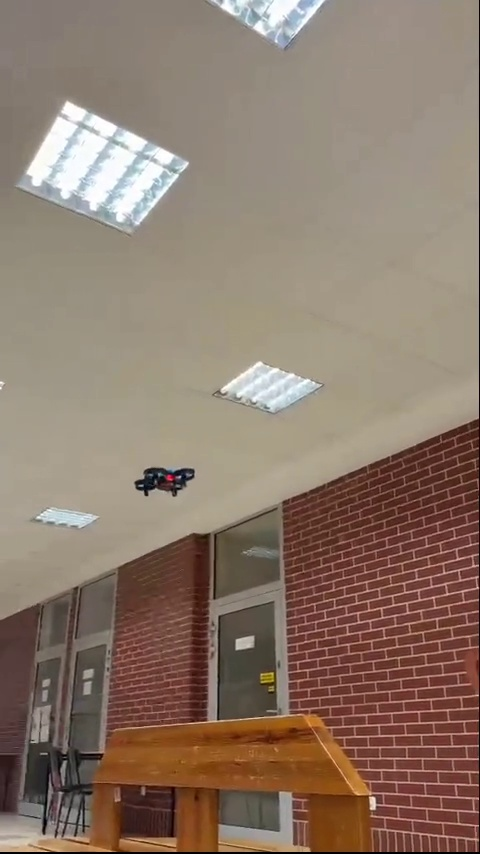drone: (133, 461, 195, 497)
